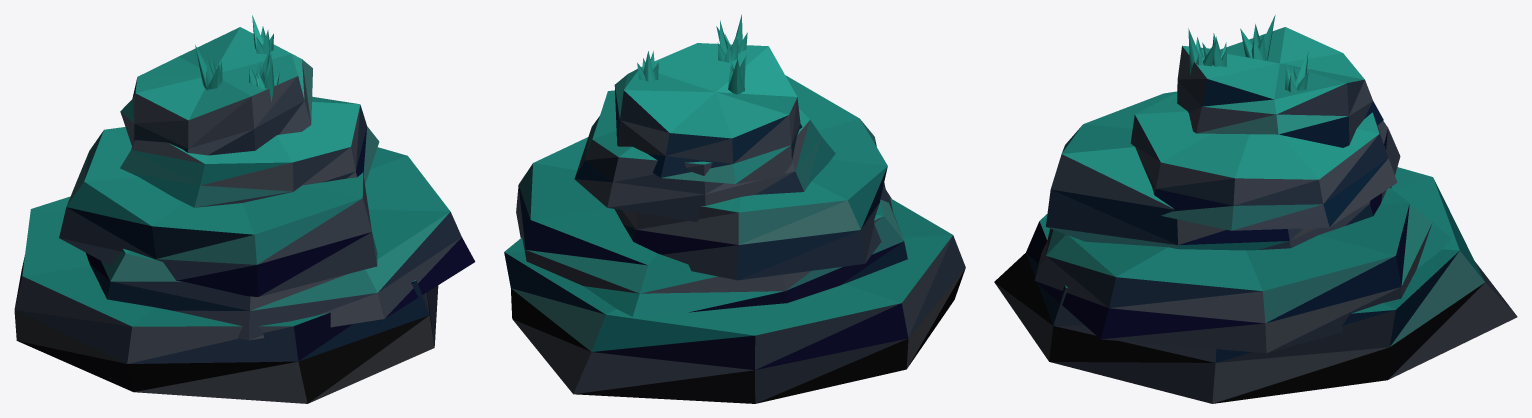
Rendered from batu_slate_basalt_631277.glb.
The picture shows the model from 3 angles, left to right: view 1: azimuth 30°, elevation 25°; view 2: azimuth 150°, elevation 25°; view 3: azimuth 270°, elevation 25°; orthographic projection. The views are drawn at different scales.
Parts seen in each view (by area): view 1: Batu_Pipih_Bertumpuk; view 2: Batu_Pipih_Bertumpuk; view 3: Batu_Pipih_Bertumpuk.
Boxes of the visible parts, box(x1,y1,x2,y2) form: Batu_Pipih_Bertumpuk: box(14, 15, 475, 403); Batu_Pipih_Bertumpuk: box(504, 14, 965, 403); Batu_Pipih_Bertumpuk: box(994, 15, 1517, 403).
Size of the model in its own units: 4.86 by 3.1 by 5.19.
